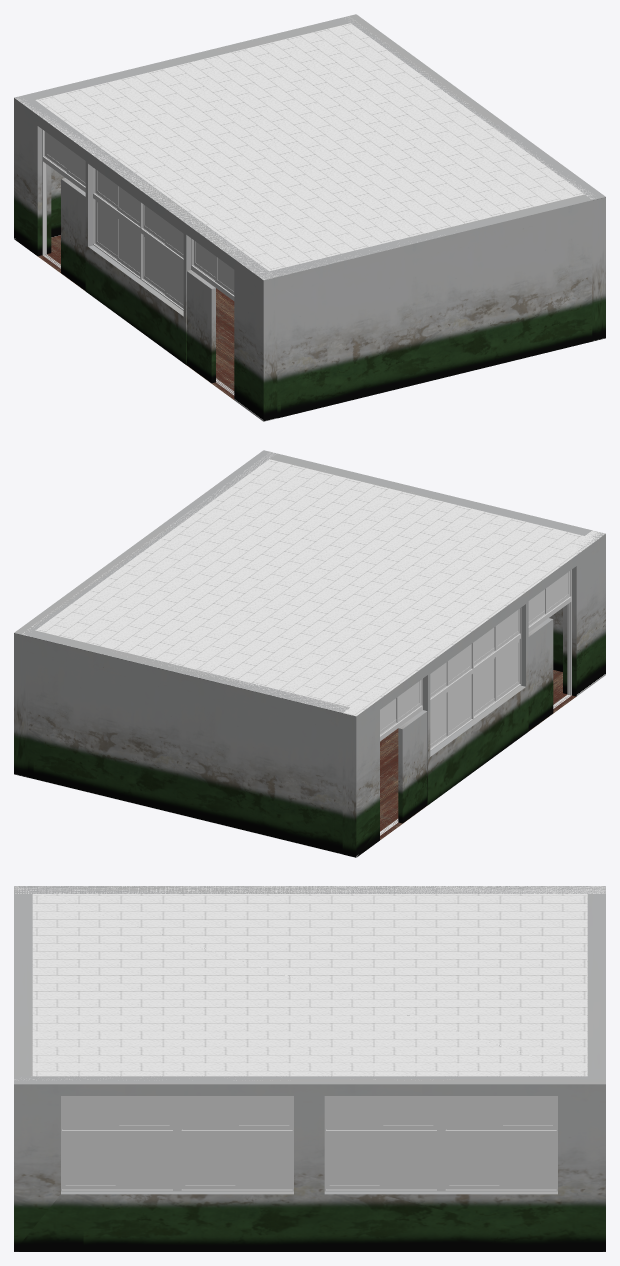
File: class_room1.glb
3 views of the same model, one above another, from view 1: azimuth 30°, elevation 25°; view 2: azimuth 150°, elevation 25°; view 3: azimuth 270°, elevation 25° (orthographic). The views are drawn at different scales.
Parts seen in each view (by area): view 1: 地面.002, 壁 前.001, 壁 廊下側.001, 壁 窓側.001, 壁 後ろ.001, 큐브.004, 큐브.005, 地面.001, 間仕切3 窓1 外側.002, 間仕切3 窓1 内側.002, 間仕切3 窓1 内側.001, 間仕切1 ドア1 枠.002 (+8 smaller); view 2: 地面.002, 壁 後ろ.001, 壁 廊下側.001, 壁 窓側.001, 壁 前.001, 큐브.005, 큐브.004, 地面.001, 間仕切3 窓1 外側.002, 間仕切3 窓1 外側.001, 間仕切3 窓1 内側.001, 間仕切1 ドア1 枠.001 (+7 smaller); view 3: 地面.002, 壁 窓側.001, 壁 廊下側.001, 壁 前.001, 壁 後ろ.001, 窓 学校004 窓1 外側 1.001, 窓 学校004 窓1 外側 2.001, 窓 学校004 窓1 外側 1.002, 窓 学校004 窓1 外側 2.002, 窓 学校004 窓1 内側 2.001, 窓 学校004 窓1 内側 2.002, 窓 学校004 窓1 内側 1.001 (+15 smaller).
Part boxes in pixels (x1=…): 地面.002: x1=15, y1=16, x2=594, y2=279; 壁 前.001: x1=269, y1=194, x2=592, y2=418; 壁 廊下側.001: x1=14, y1=94, x2=277, y2=421; 壁 窓側.001: x1=343, y1=14, x2=605, y2=341; 壁 後ろ.001: x1=28, y1=17, x2=350, y2=237; 큐브.004: x1=187, y1=270, x2=215, y2=383; 큐브.005: x1=61, y1=178, x2=85, y2=290; 地面.001: x1=38, y1=235, x2=234, y2=399; 間仕切3 窓1 外側.002: x1=117, y1=216, x2=140, y2=276; 間仕切3 窓1 内側.002: x1=95, y1=200, x2=117, y2=258; 間仕切3 窓1 内側.001: x1=143, y1=235, x2=164, y2=293; 間仕切1 ドア1 枠.002: x1=42, y1=129, x2=85, y2=268; 地面.002: x1=21, y1=452, x2=604, y2=716; 壁 後ろ.001: x1=27, y1=630, x2=349, y2=854; 壁 廊下側.001: x1=342, y1=531, x2=605, y2=857; 壁 窓側.001: x1=14, y1=450, x2=276, y2=777; 壁 前.001: x1=269, y1=453, x2=591, y2=671; 큐브.005: x1=398, y1=710, x2=427, y2=823; 큐브.004: x1=528, y1=618, x2=553, y2=730; 地面.001: x1=380, y1=670, x2=575, y2=839; 間仕切3 窓1 外側.002: x1=446, y1=675, x2=471, y2=736; 間仕切3 窓1 外側.001: x1=494, y1=639, x2=519, y2=701; 間仕切3 窓1 内側.001: x1=474, y1=658, x2=494, y2=715; 間仕切1 ドア1 枠.001: x1=528, y1=569, x2=571, y2=708; 地面.002: x1=14, y1=886, x2=605, y2=1080; 壁 窓側.001: x1=14, y1=1076, x2=605, y2=1251; 壁 廊下側.001: x1=14, y1=886, x2=605, y2=893; 壁 前.001: x1=14, y1=894, x2=32, y2=1076; 壁 後ろ.001: x1=587, y1=894, x2=605, y2=1076; 窓 学校004 窓1 外側 1.001: x1=235, y1=1136, x2=292, y2=1189; 窓 学校004 窓1 外側 2.001: x1=115, y1=1136, x2=172, y2=1189; 窓 学校004 窓1 外側 1.002: x1=499, y1=1136, x2=556, y2=1189; 窓 学校004 窓1 外側 2.002: x1=379, y1=1136, x2=436, y2=1189; 窓 学校004 窓1 内側 2.001: x1=62, y1=1136, x2=115, y2=1189; 窓 学校004 窓1 内側 2.002: x1=326, y1=1136, x2=379, y2=1189; 窓 学校004 窓1 内側 1.001: x1=182, y1=1136, x2=235, y2=1189.
Size of the model in its own units: 7.6 by 3 by 9.6.
3 materials, 3 textured.
